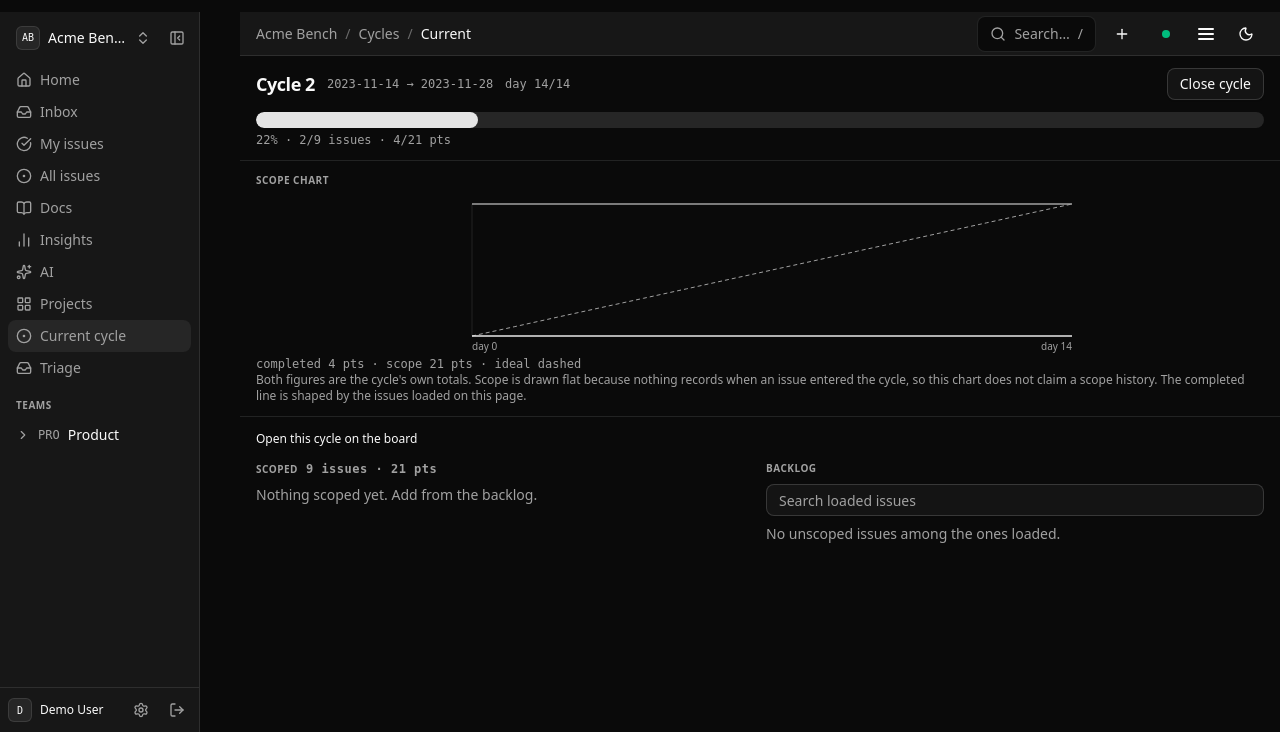
it: cycle scoping › shows the server's scope count, not the length of the visible list
Click the link "Current cycle" at point(100, 336), box [8, 320, 191, 352]
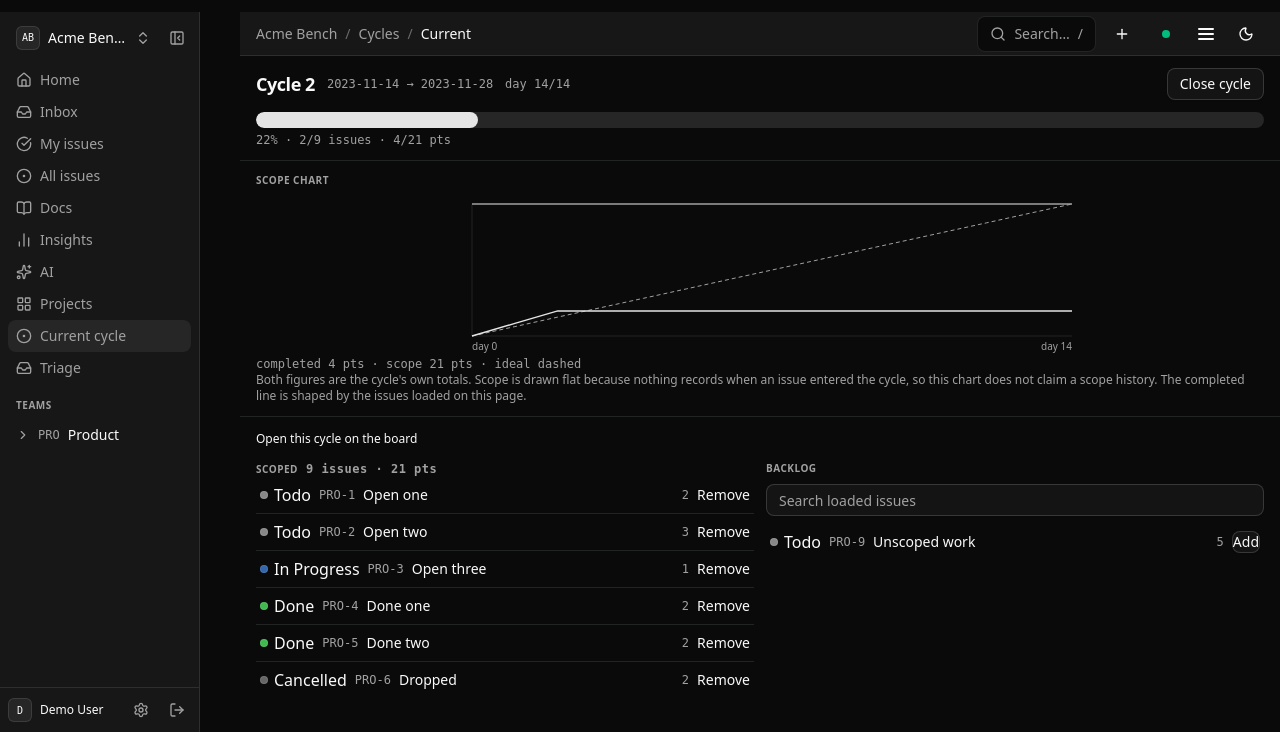
Expected: the text with test id "cy-scope-stat" reads "9 issues · 21 pts", [306, 461, 437, 477]
Result: the number of buttons "Remove" is 6 at [697, 485, 750, 505]; [697, 522, 750, 542]; [697, 559, 750, 579]; [697, 596, 750, 616]; [697, 633, 750, 653]; [697, 670, 750, 690]
